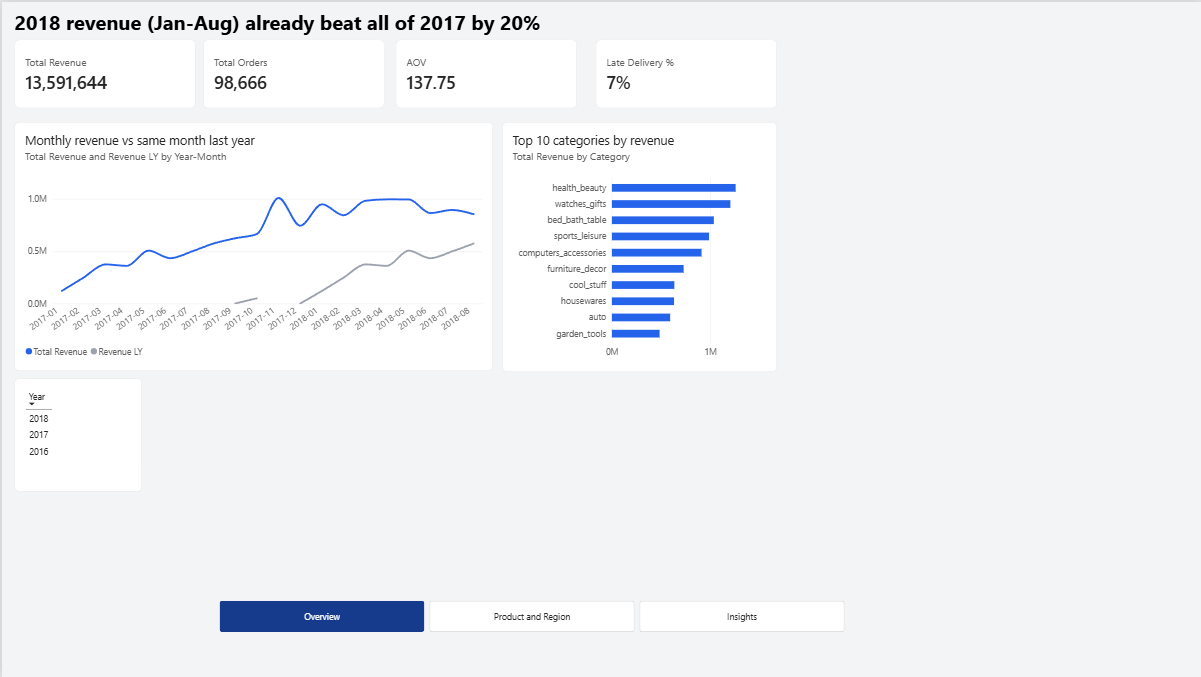

What the dashboard file says about the page in this screenshot:
{"tool":"powerbi","page":{"name":"Overview","canvas":[1920,1080],"ordinal":2},"visuals":[{"type":"cardVisual","fields":{"Data":["_Measures.Total Revenue"]},"box":[20,60,290,110],"z":0},{"type":"cardVisual","fields":{"Data":["_Measures.Total Orders"]},"box":[322.9,60,290,110],"z":1000},{"type":"cardVisual","fields":{"Data":["_Measures.AOV"]},"box":[630,60,290,110],"z":2000},{"type":"cardVisual","fields":{"Data":["_Measures.Late Delivery %"]},"box":[950,60,290,110],"z":3000},{"type":"lineChart","title":"Monthly revenue vs same month last year","fields":{"Category":["Dim_Date.Year-Month"],"Y":["_Measures.Total Revenue","_Measures.Revenue LY"]},"box":[20,192.9,765.7,398.6],"z":4000},{"type":"clusteredBarChart","title":"Top 10 categories by revenue","fields":{"Category":["Products.Category"],"Y":["_Measures.Total Revenue"]},"box":[800,191.4,440,400],"z":5000},{"type":"tableEx","fields":{"Values":["Dim_Date.Year"]},"box":[20,602.9,204.3,181.4],"z":6000},{"type":"textbox","box":[20,10,1220,50],"z":7000},{"type":"pageNavigator","box":[348.6,958.6,1000,50],"z":8000}]}

Visuals, with their boxes in screenshot pixels (x1, y1, x2, y2), scaled from the page's 1920x1080 canvas onto the 1201x677 screenshot:
cardVisual - _Measures.Total Revenue: (13,38,194,107)
cardVisual - _Measures.Total Orders: (202,38,383,107)
cardVisual - _Measures.AOV: (394,38,575,107)
cardVisual - _Measures.Late Delivery %: (594,38,776,107)
"Monthly revenue vs same month last year" lineChart: (13,121,491,371)
"Top 10 categories by revenue" clusteredBarChart: (500,120,776,371)
tableEx - Dim_Date.Year: (13,378,140,492)
textbox: (13,6,776,38)
pageNavigator: (218,601,844,632)
